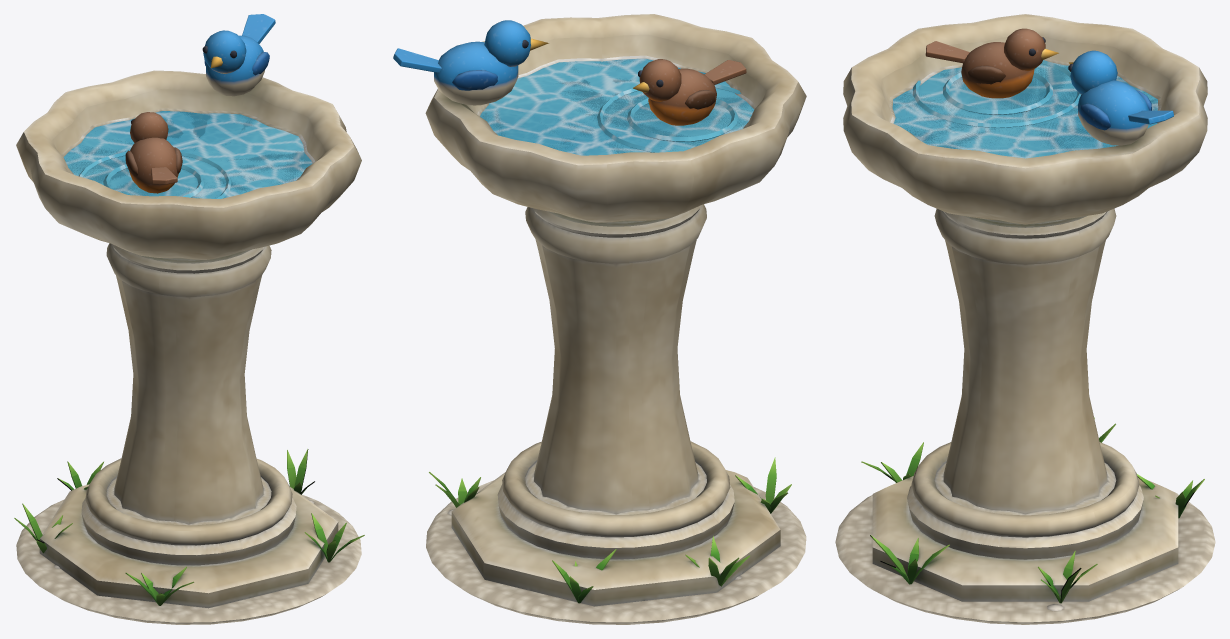
Rendered from bird-bath.fbx.
3 views of the same model, side by side, from view 1: azimuth 30°, elevation 25°; view 2: azimuth 150°, elevation 25°; view 3: azimuth 270°, elevation 25° (orthographic). The views are drawn at different scales.
Visible parts, largest first — view 1: Body, Anim Bob, Anim Bob.001; view 2: Body, Anim Bob, Anim Bob.001; view 3: Body, Anim Bob, Anim Bob.001.
Part boxes in pixels (<box>): Body: <box>14,70,364,624</box>; Anim Bob: <box>202,14,275,96</box>; Anim Bob.001: <box>125,112,182,193</box>; Body: <box>425,14,806,624</box>; Anim Bob: <box>393,20,548,105</box>; Anim Bob.001: <box>633,59,746,125</box>; Body: <box>835,14,1215,624</box>; Anim Bob: <box>1068,50,1173,145</box>; Anim Bob.001: <box>925,28,1058,98</box>.
Bounding box in the file's own units: 0.6934 × 1.07 × 0.69.
